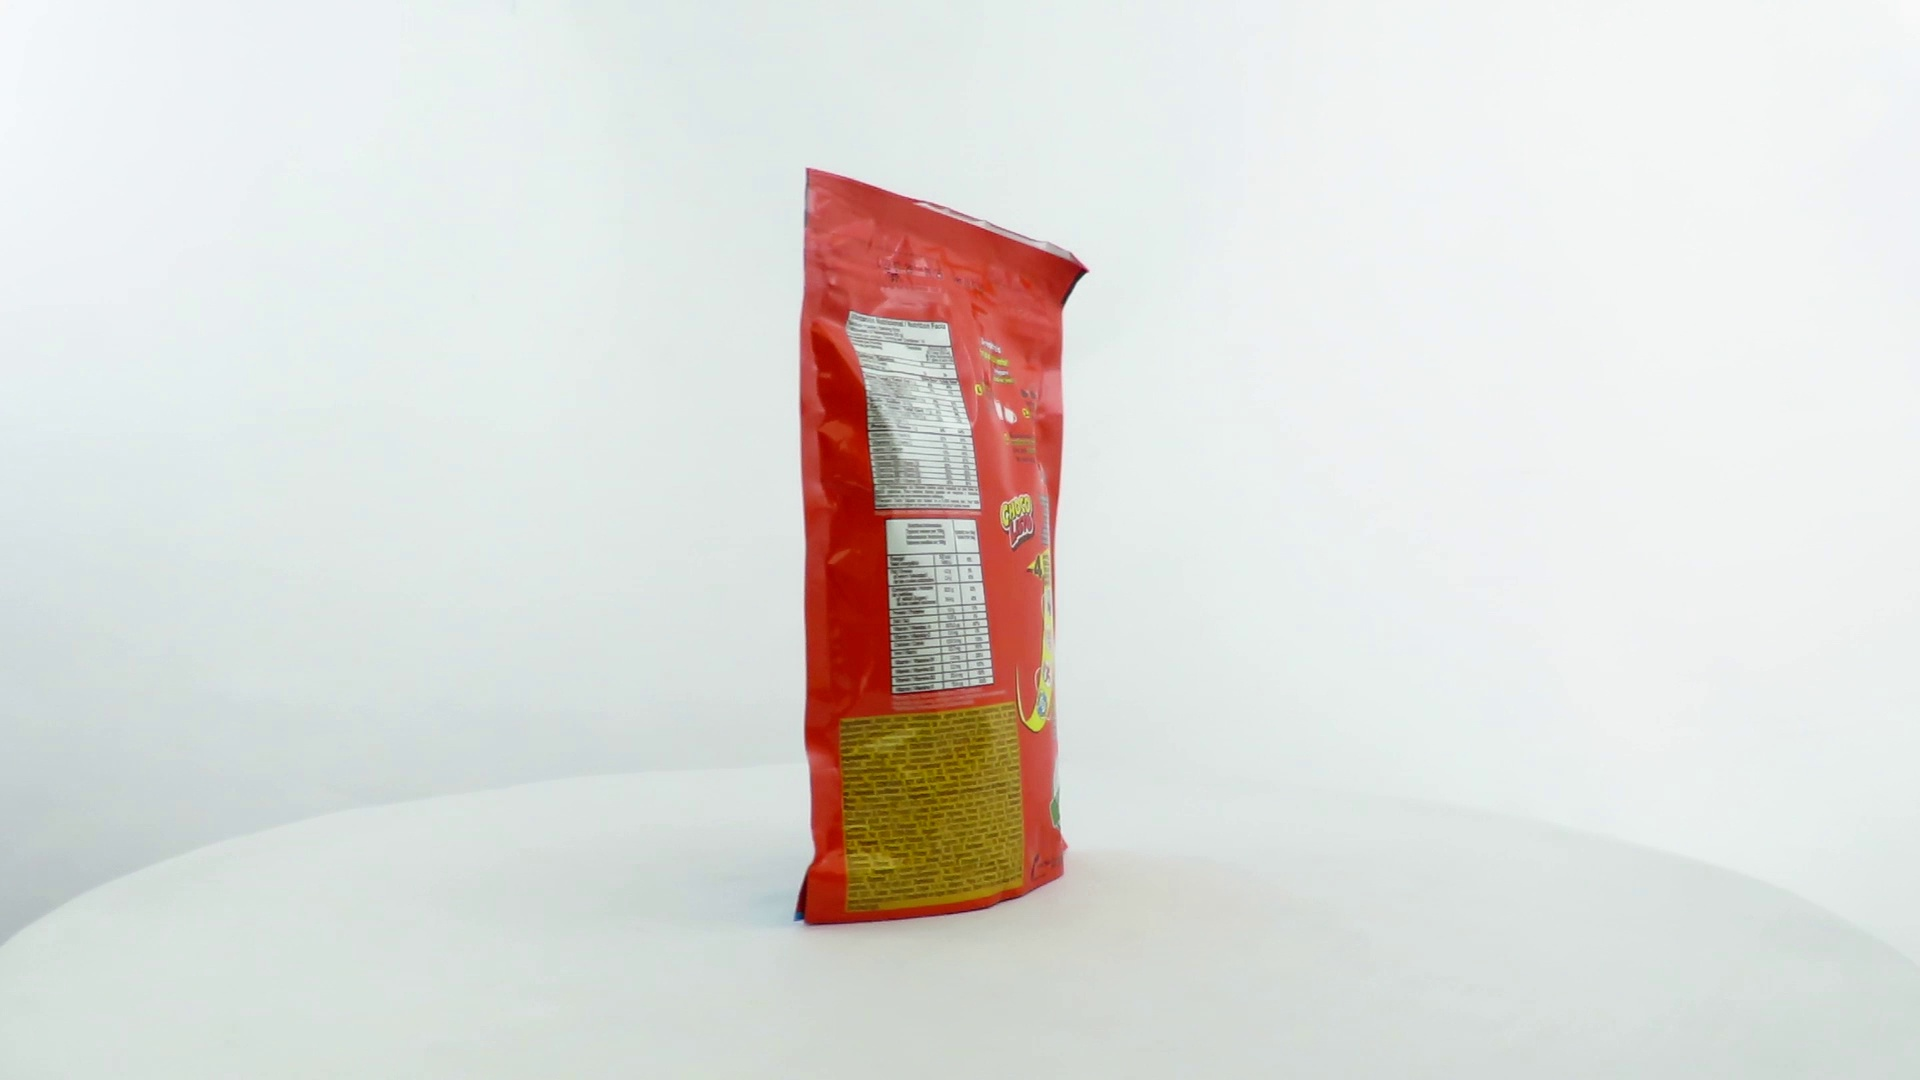COL0170104DYP20000: (789, 164, 1095, 932)
